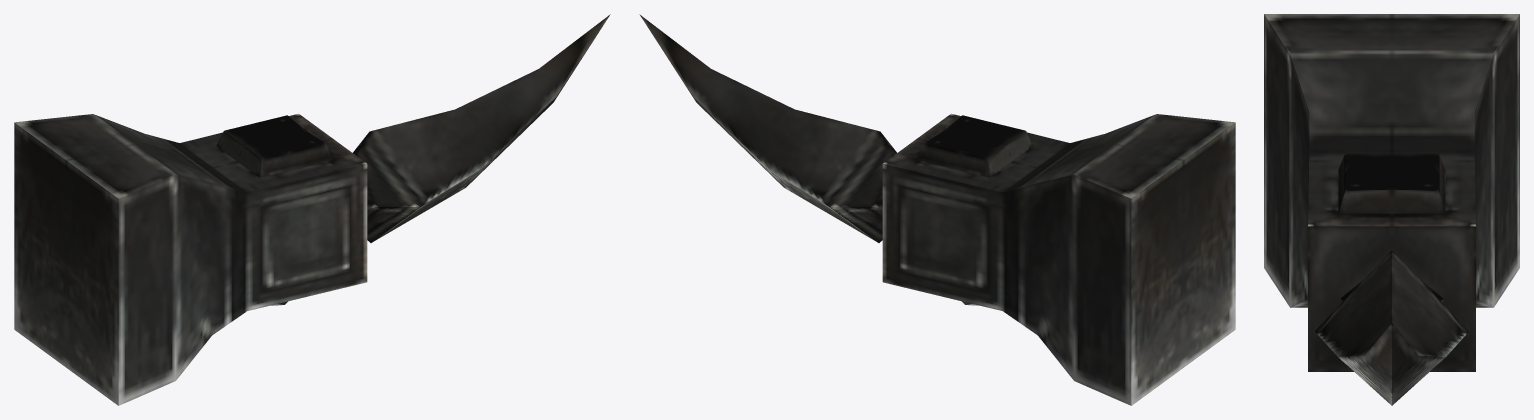
File: Zhangao_body.FBX
3 renders of one model, left to right at view 1: azimuth 30°, elevation 25°; view 2: azimuth 150°, elevation 25°; view 3: azimuth 270°, elevation 25°, orthographic. The views are drawn at different scales.
Parts seen in each view (by area): view 1: Zhangao_body; view 2: Zhangao_body; view 3: Zhangao_body.
Part boxes in pixels (x1,y1,x2,y2): Zhangao_body: (14,14,610,405); Zhangao_body: (639,14,1235,405); Zhangao_body: (1264,14,1519,405).
Size of the model in its own units: 36.72 by 14.24 by 12.19.
Materials: 1 (1 with a texture image).
